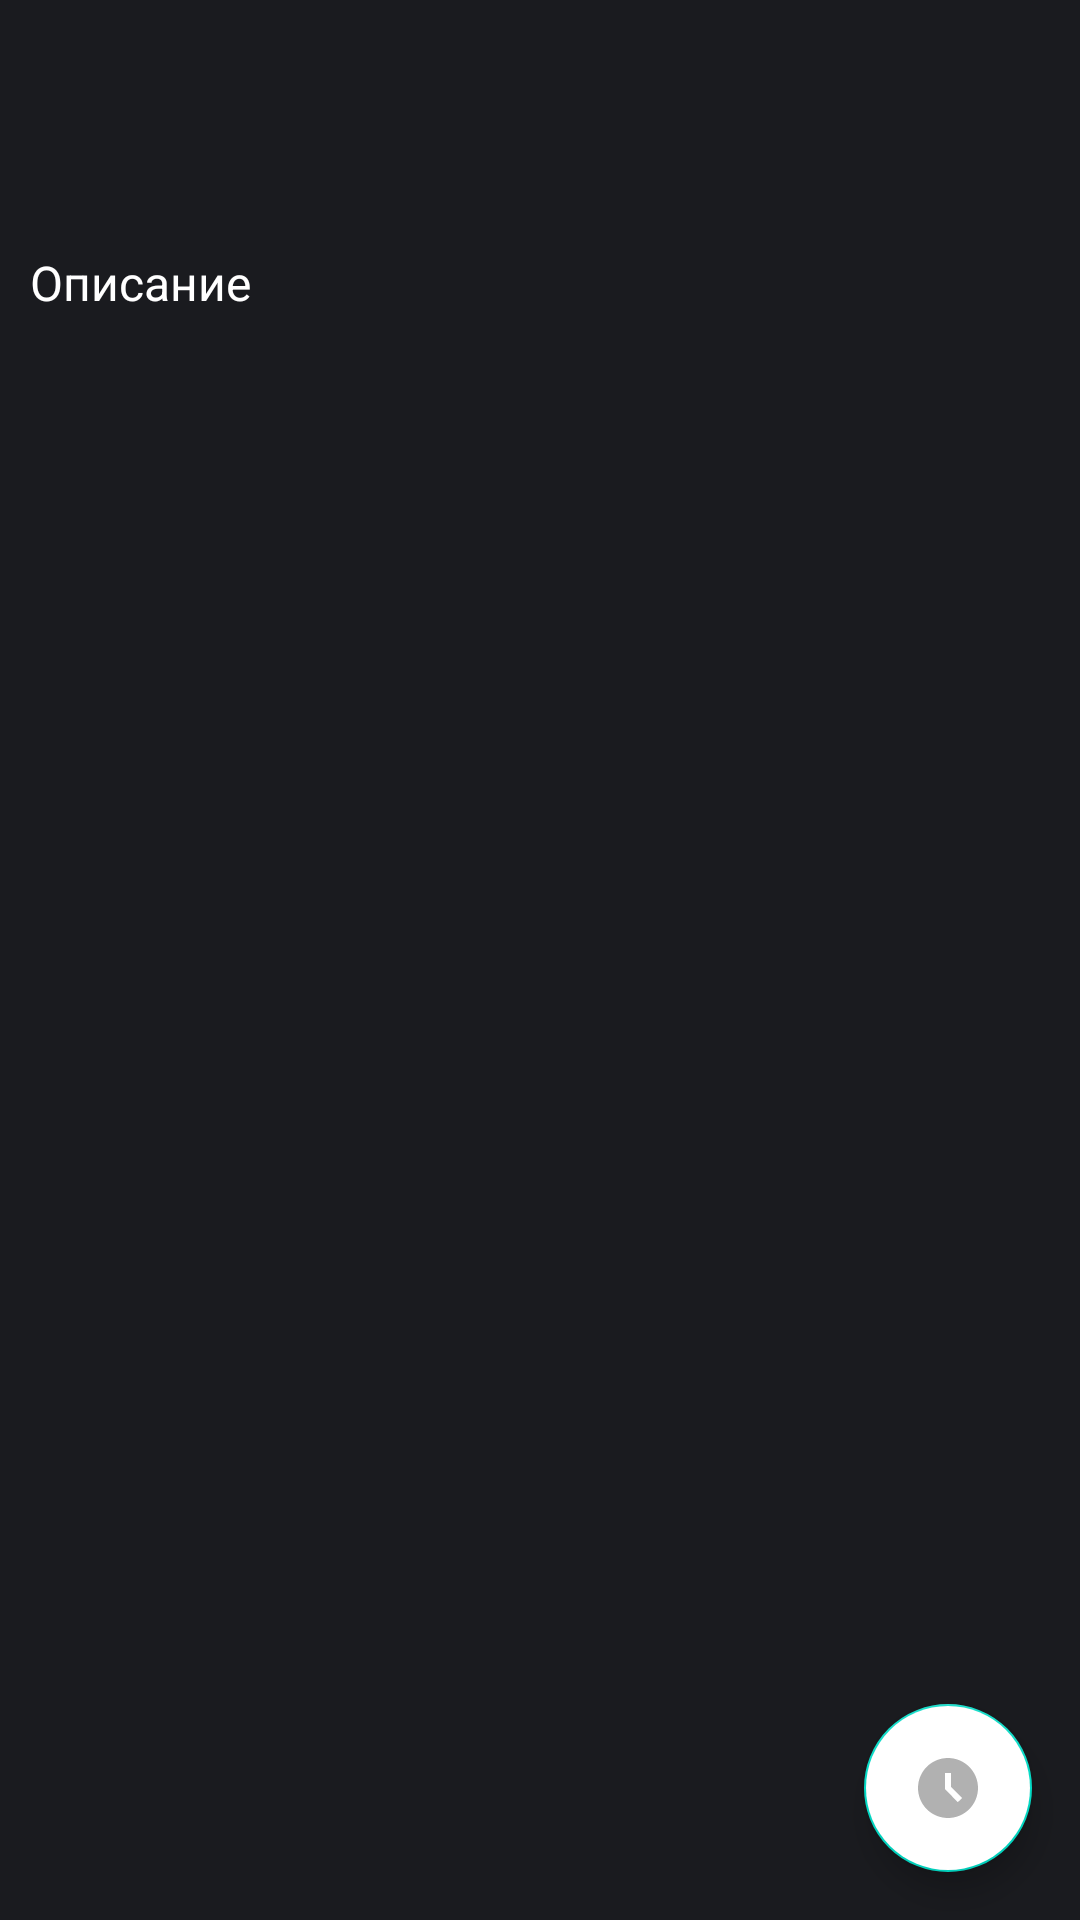

Screen size 1080px×1920px. Icon name, then its center in pixels as (x=x, y=y):
Смотреть позже: (x=948, y=1788)
